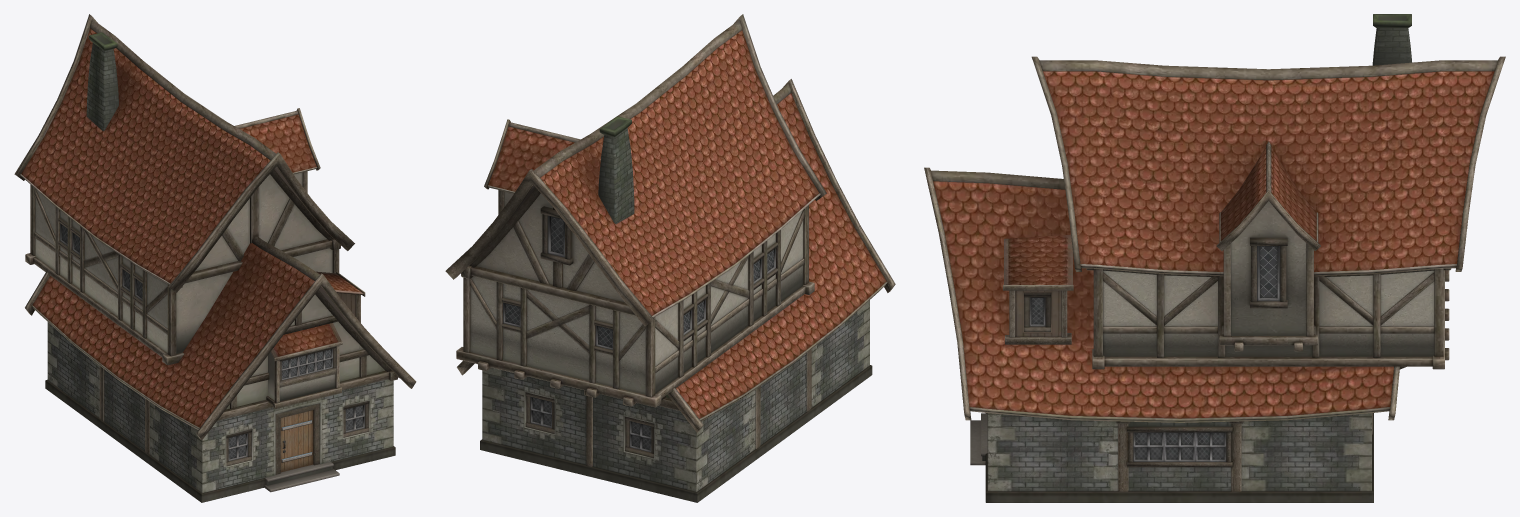
The model's file is granja.glb.
3 views of the same model, side by side, from view 1: azimuth 30°, elevation 25°; view 2: azimuth 150°, elevation 25°; view 3: azimuth 270°, elevation 25° (orthographic). The views are drawn at different scales.
Visible parts, largest first — view 1: Roof_Roof_0, Wood_Wood_0, WallBrick_Wall Brick_0, Wall_Wall_0, DoorAndWindow_Door And Window_0; view 2: Roof_Roof_0, WallBrick_Wall Brick_0, Wood_Wood_0, Wall_Wall_0, DoorAndWindow_Door And Window_0; view 3: Roof_Roof_0, Wood_Wood_0, WallBrick_Wall Brick_0, Wall_Wall_0, DoorAndWindow_Door And Window_0.
Part boxes in pixels (bbox=[...]): Roof_Roof_0: bbox=[21, 28, 363, 427]; Wood_Wood_0: bbox=[14, 14, 416, 474]; WallBrick_Wall Brick_0: bbox=[45, 32, 395, 502]; Wall_Wall_0: bbox=[35, 172, 384, 409]; DoorAndWindow_Door And Window_0: bbox=[58, 218, 369, 472]; Roof_Roof_0: bbox=[488, 30, 886, 418]; WallBrick_Wall Brick_0: bbox=[480, 116, 872, 502]; Wood_Wood_0: bbox=[445, 14, 895, 466]; Wall_Wall_0: bbox=[470, 191, 803, 397]; DoorAndWindow_Door And Window_0: bbox=[502, 206, 777, 457]; Roof_Roof_0: bbox=[933, 71, 1494, 418]; Wood_Wood_0: bbox=[924, 56, 1505, 491]; WallBrick_Wall Brick_0: bbox=[970, 14, 1412, 502]; Wall_Wall_0: bbox=[1015, 201, 1434, 356]; DoorAndWindow_Door And Window_0: bbox=[1024, 237, 1287, 467].
Bounding box in the file's own units: 8.19 × 11.46 × 14.84.
5 materials, 5 textured.
